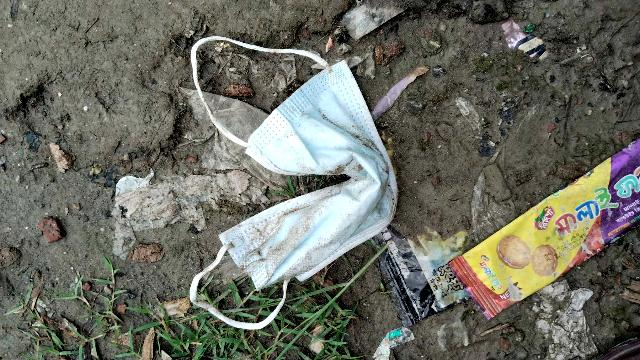mask: (142, 0, 412, 342)
